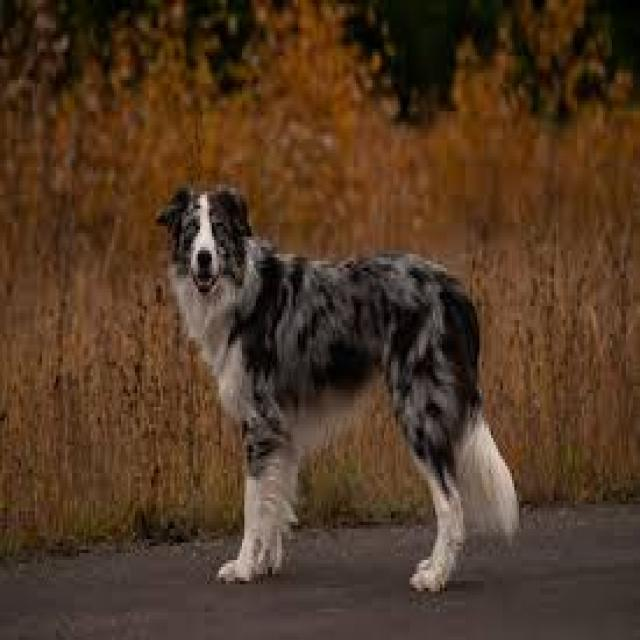BORDER_COLLIE: (151, 153, 525, 611)
